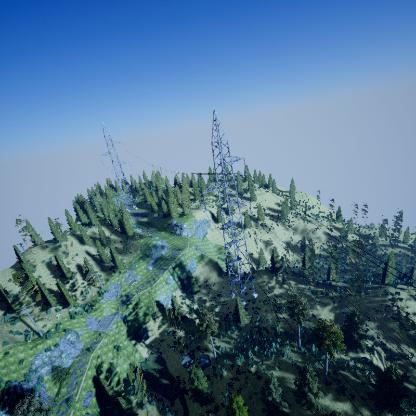tower: (198, 108, 261, 308), (98, 122, 139, 212)
